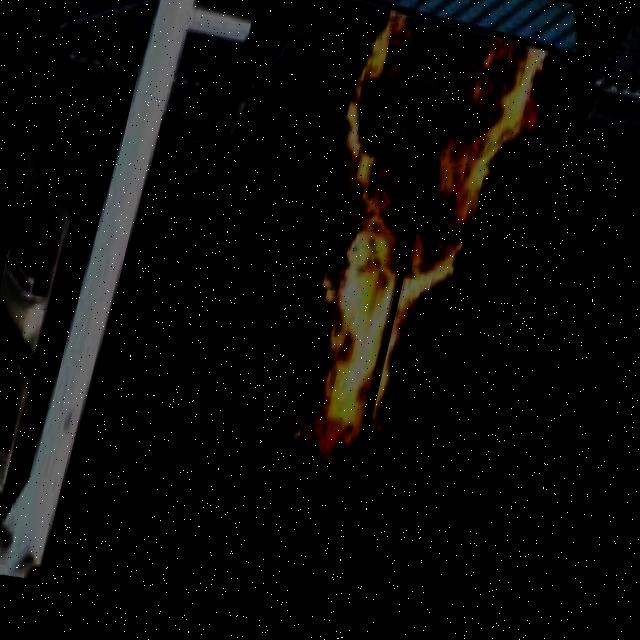Fire: (262, 5, 552, 495)
